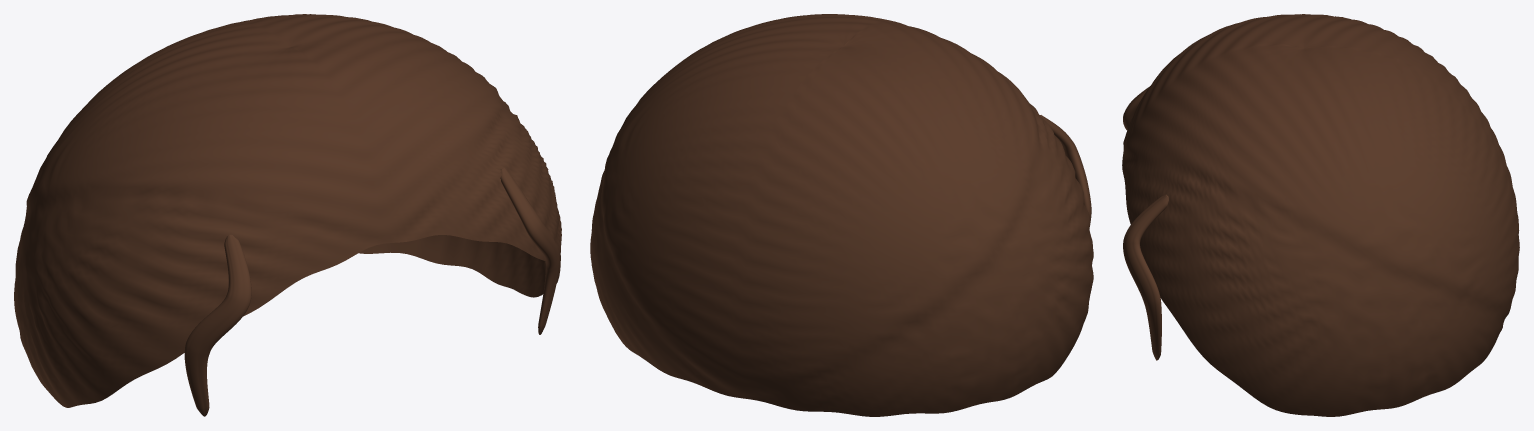
The model's file is Highlights-9b99fa2b11da251-hair.glb.
3 views of the same model, side by side, from view 1: azimuth 30°, elevation 25°; view 2: azimuth 150°, elevation 25°; view 3: azimuth 270°, elevation 25° (orthographic). The views are drawn at different scales.
Visible parts, largest first — view 1: 226 hair / Hair / chestnut226.001; view 2: 226 hair / Hair / chestnut226.001; view 3: 226 hair / Hair / chestnut226.001.
Boxes of the visible parts, box(x1,y1,x2,y2) form: 226 hair / Hair / chestnut226.001: box(14, 14, 561, 416); 226 hair / Hair / chestnut226.001: box(590, 14, 1093, 416); 226 hair / Hair / chestnut226.001: box(1122, 14, 1519, 416).
Bounding box in the file's own units: 0.9981 × 0.5988 × 0.7846.
